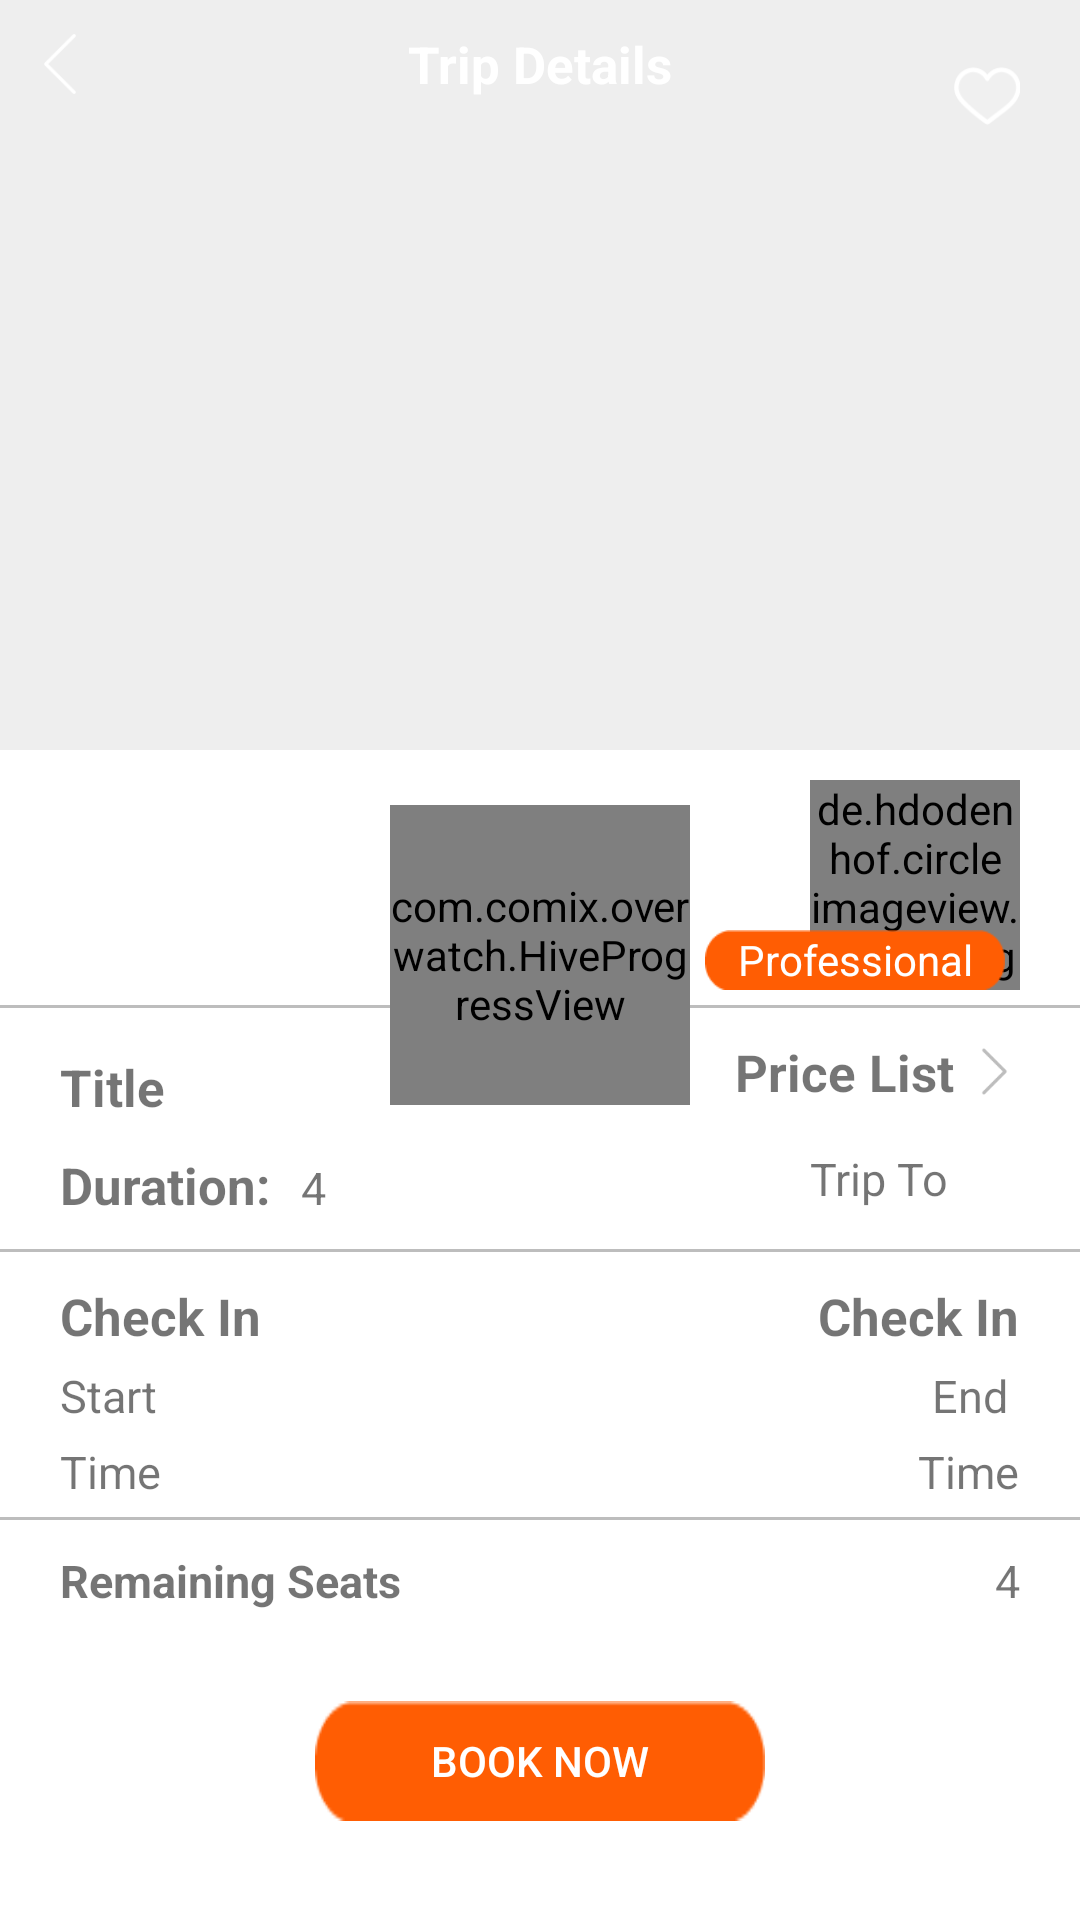

Named icons in this screenshot (1080x1920) and their bounding boxes, (x1, y1, x2, y2):
rightarrow: (982, 1049, 1007, 1094)
